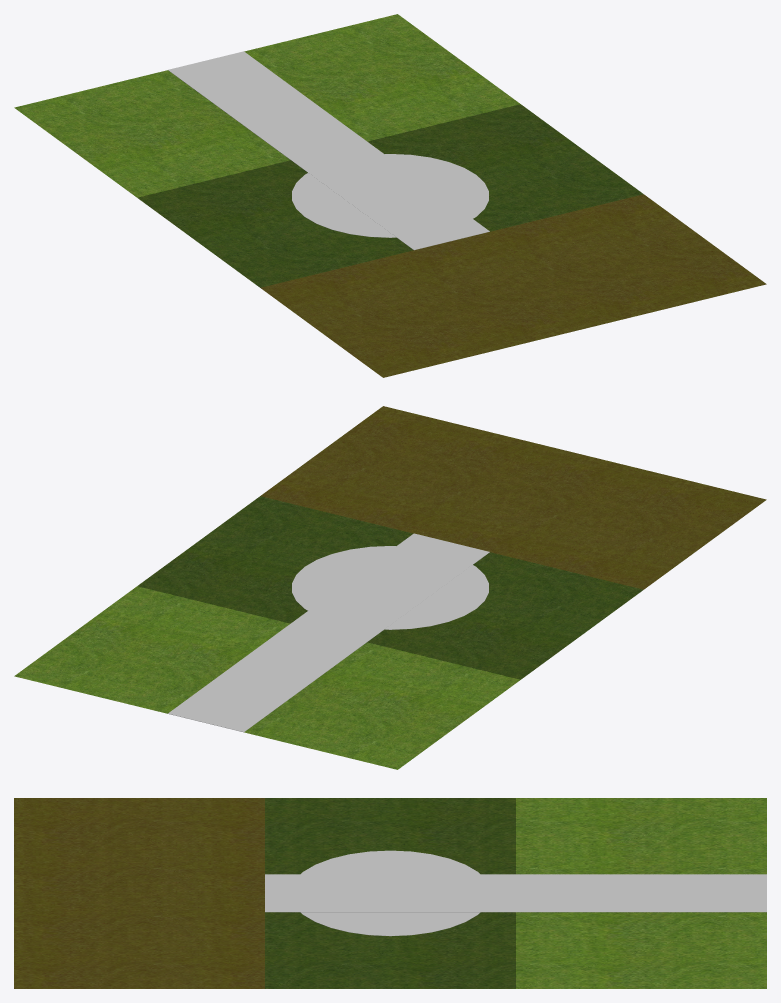
File: SUELO.FBX
The picture shows the model from 3 angles, top to bottom: view 1: azimuth 30°, elevation 25°; view 2: azimuth 150°, elevation 25°; view 3: azimuth 270°, elevation 25°; orthographic projection.
Visible parts, largest first — view 1: Plane001; view 2: Plane001; view 3: Plane001.
Part boxes in pixels (bbox=[...]): Plane001: bbox=[14, 14, 766, 377]; Plane001: bbox=[14, 406, 766, 769]; Plane001: bbox=[14, 798, 766, 988].
Bounding box in the file's own units: 75 × 0.05 × 125.
